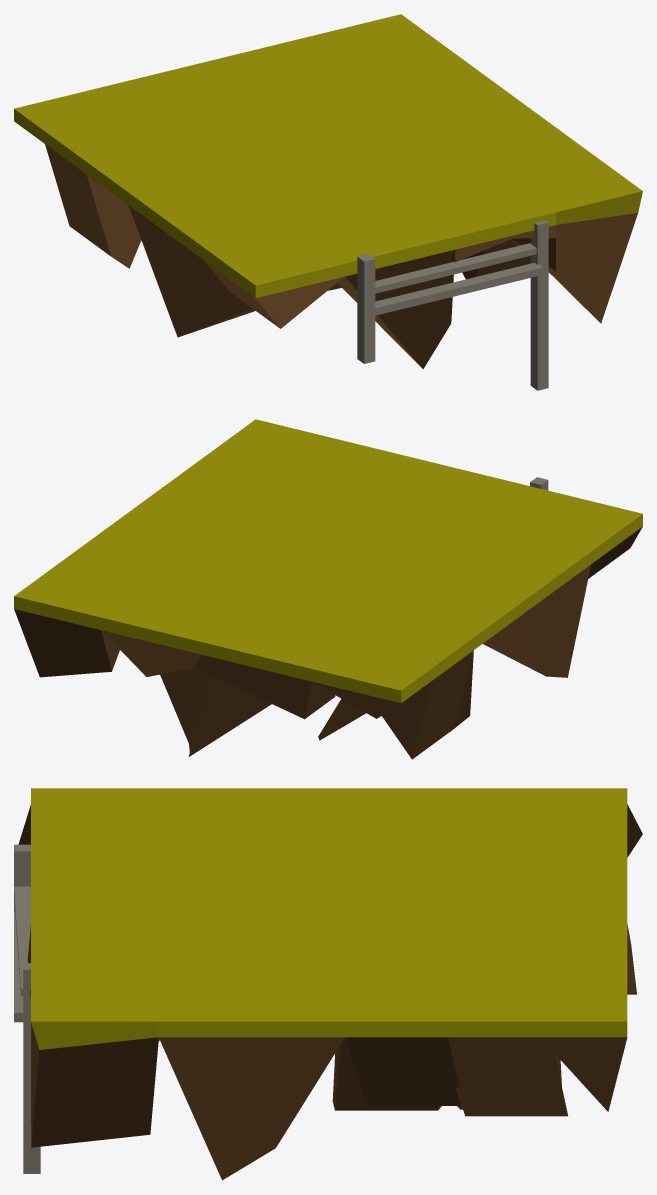
File: PlataformaFinalfbx.fbx
3 views of the same model, one above another, from view 1: azimuth 30°, elevation 25°; view 2: azimuth 150°, elevation 25°; view 3: azimuth 270°, elevation 25° (orthographic). The views are drawn at different scales.
Visible parts, largest first — view 1: Cube.004; view 2: Cube.004; view 3: Cube.004.
Part boxes in pixels (bbox=[...]): Cube.004: bbox=[14, 14, 642, 390]; Cube.004: bbox=[14, 419, 642, 759]; Cube.004: bbox=[14, 788, 642, 1180].
Size of the model in its own units: 887 by 381 by 1007.
Materials: 3 (3 with a texture image).
